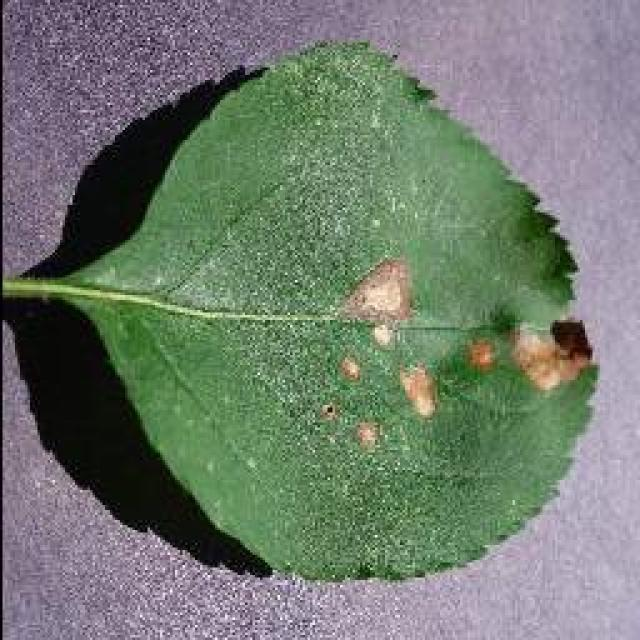Black_rot: (8, 38, 600, 582)
